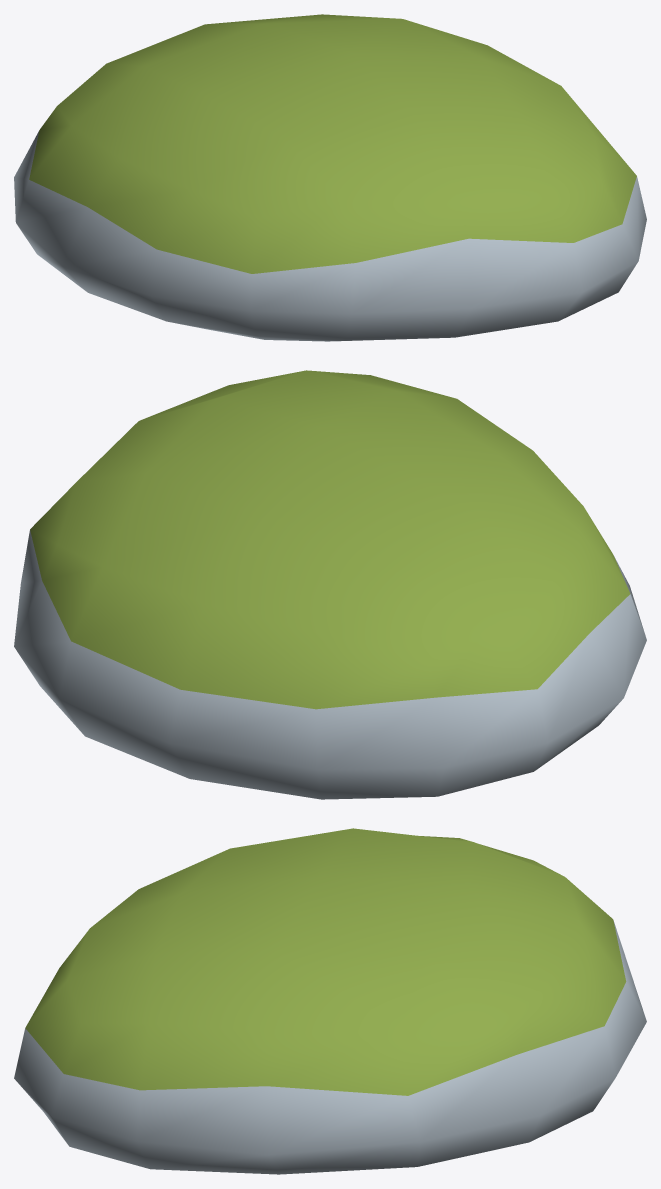
File: itch_assetquest_pond_pebble_2b_moss.glb
3 views of the same model, one above another, from view 1: azimuth 30°, elevation 25°; view 2: azimuth 150°, elevation 25°; view 3: azimuth 270°, elevation 25° (orthographic). The views are drawn at different scales.
Visible parts, largest first — view 1: Pebble_2b_Moss; view 2: Pebble_2b_Moss; view 3: Pebble_2b_Moss.
Part boxes in pixels (<box>): Pebble_2b_Moss: <box>14,14,646,341</box>; Pebble_2b_Moss: <box>14,370,646,799</box>; Pebble_2b_Moss: <box>14,828,646,1174</box>.
Size of the model in its own units: 0.4076 by 0.1705 by 0.42.
